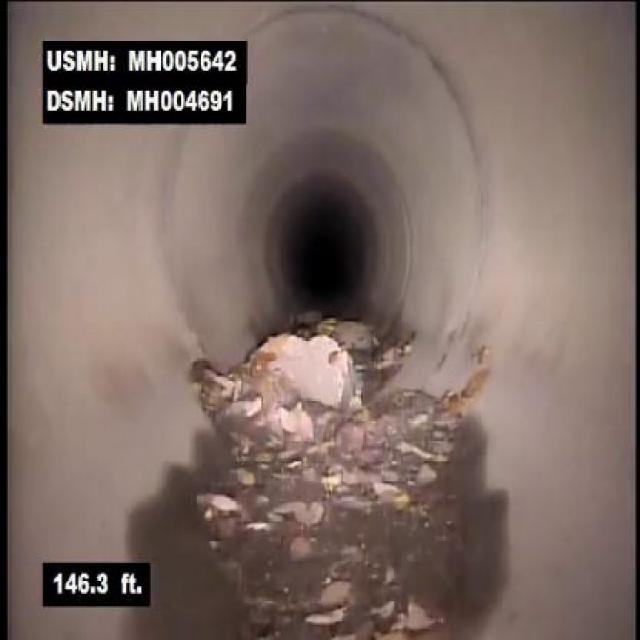Obstacle: (210, 286, 388, 462)
